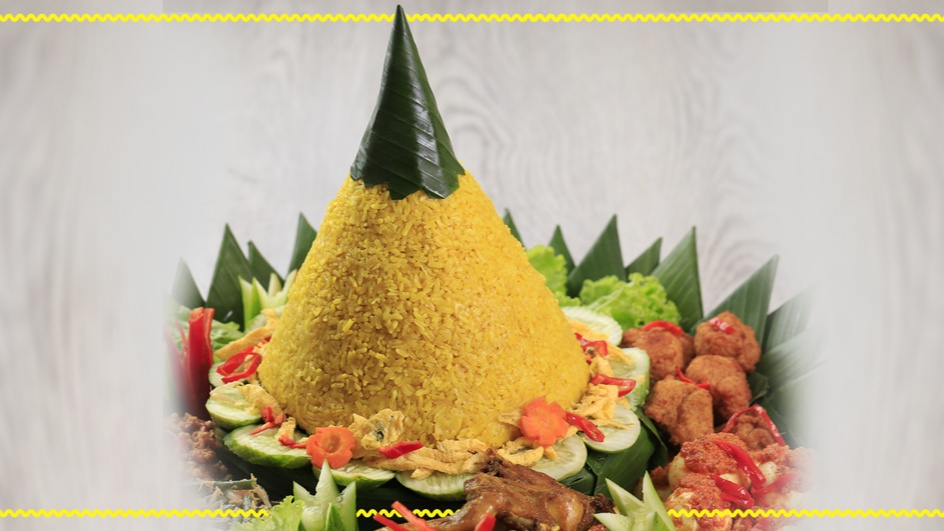tumpeng: (205, 16, 621, 415)
